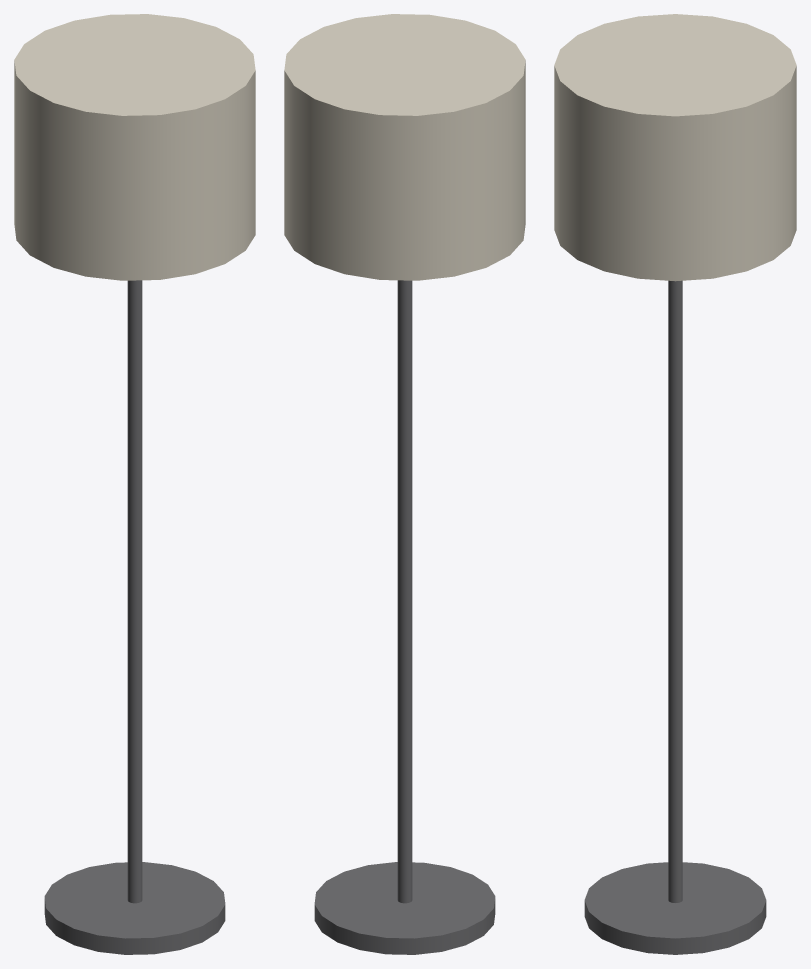
Rendered from floor_lamp.glb.
The picture shows the model from 3 angles, left to right: view 1: azimuth 30°, elevation 25°; view 2: azimuth 150°, elevation 25°; view 3: azimuth 270°, elevation 25°; orthographic projection.
Visible parts, largest first — view 1: floor_lamp; view 2: floor_lamp; view 3: floor_lamp.
Part boxes in pixels (bbox=[...]): floor_lamp: bbox=[14, 14, 255, 954]; floor_lamp: bbox=[284, 14, 525, 954]; floor_lamp: bbox=[554, 14, 796, 954].
Bounding box in the file's own units: 0.4 × 1.55 × 0.4.
